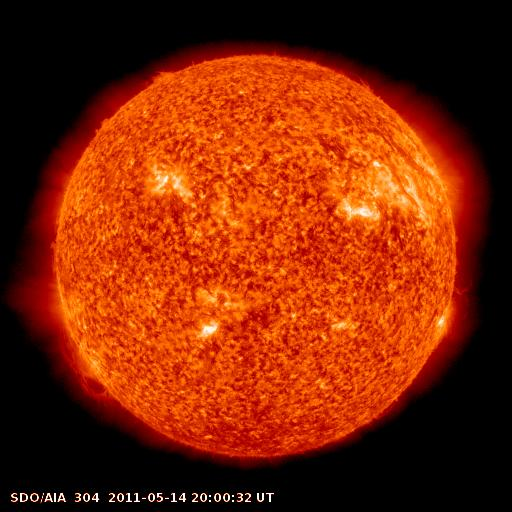prominence: (57, 327, 118, 407)
